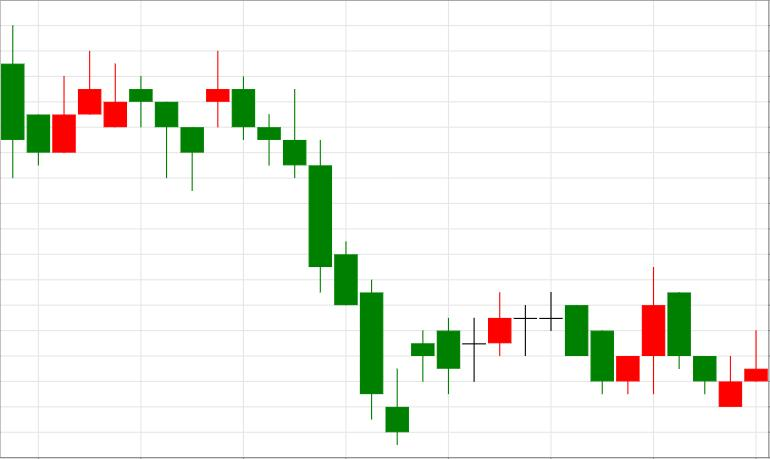inverse_hammer_rise: (232, 77, 409, 444)
